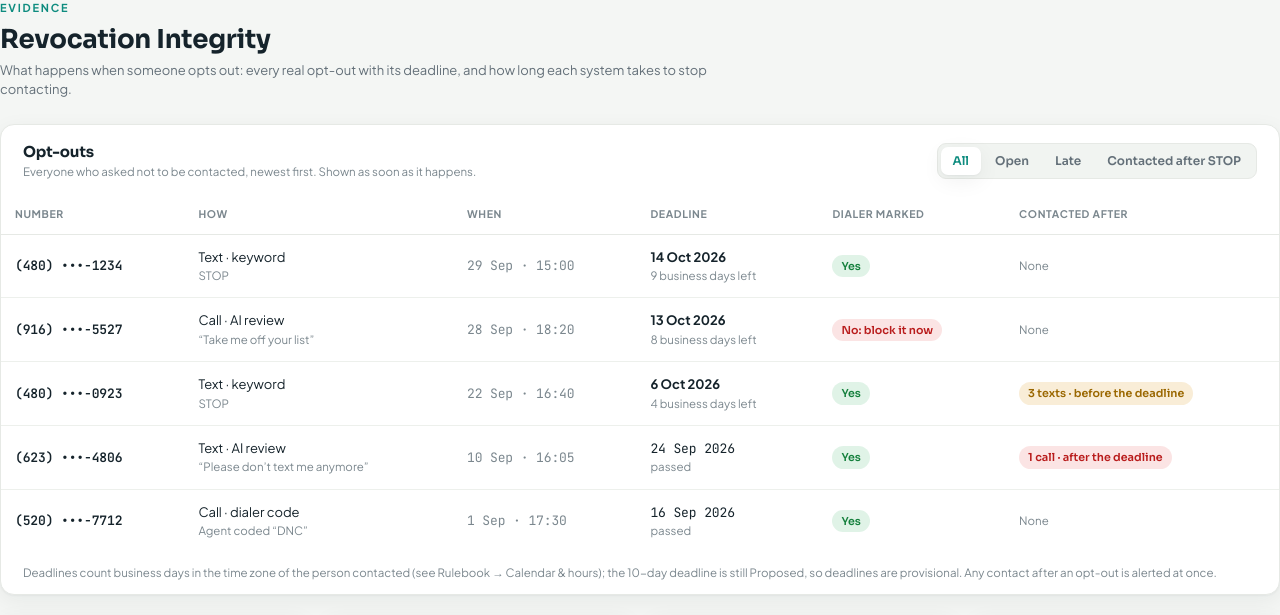
interactions › lists opt-outs with deadlines and filters the late ones
Expected: the text "(480) •••-1234" is shown, [1, 234, 184, 298]
Expected: the text "9 business days left" is shown, [650, 268, 756, 283]
Click the button "Late".
click(1068, 161)  # box [1043, 147, 1093, 175]
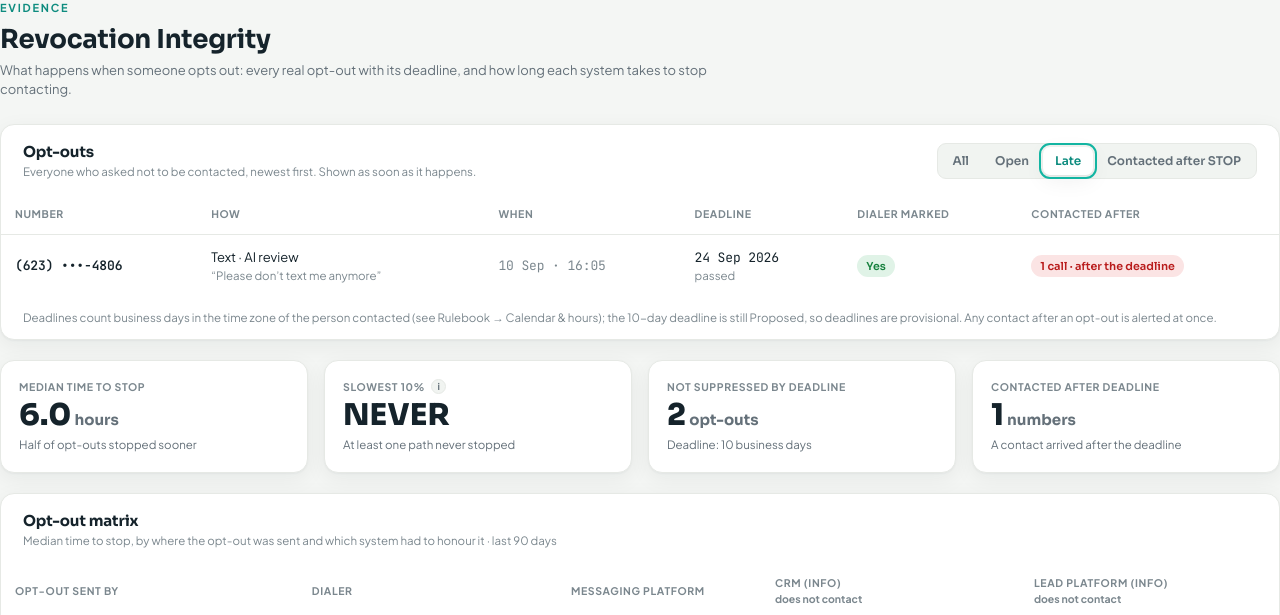
Expected: the text "(623) •••-4806" is shown, [1, 234, 197, 297]
Expected: the text "(480) •••-1234" is gone
